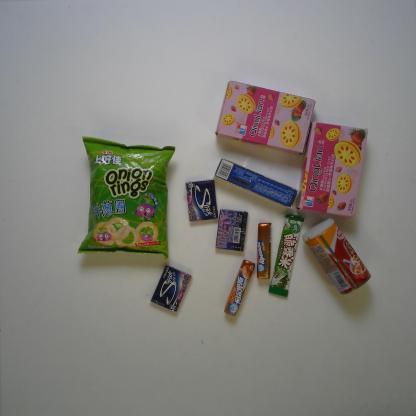Candy: (221, 255, 258, 316), (255, 220, 275, 282)
Canned Food: (300, 214, 375, 300)
Chocolate: (267, 212, 306, 298)
Dessert: (211, 77, 320, 155), (297, 118, 375, 219)
Gum: (148, 264, 197, 313), (183, 174, 225, 228), (212, 202, 250, 253)
Personal Hygiene: (214, 154, 302, 211)
Puffed Food: (74, 131, 180, 261)
